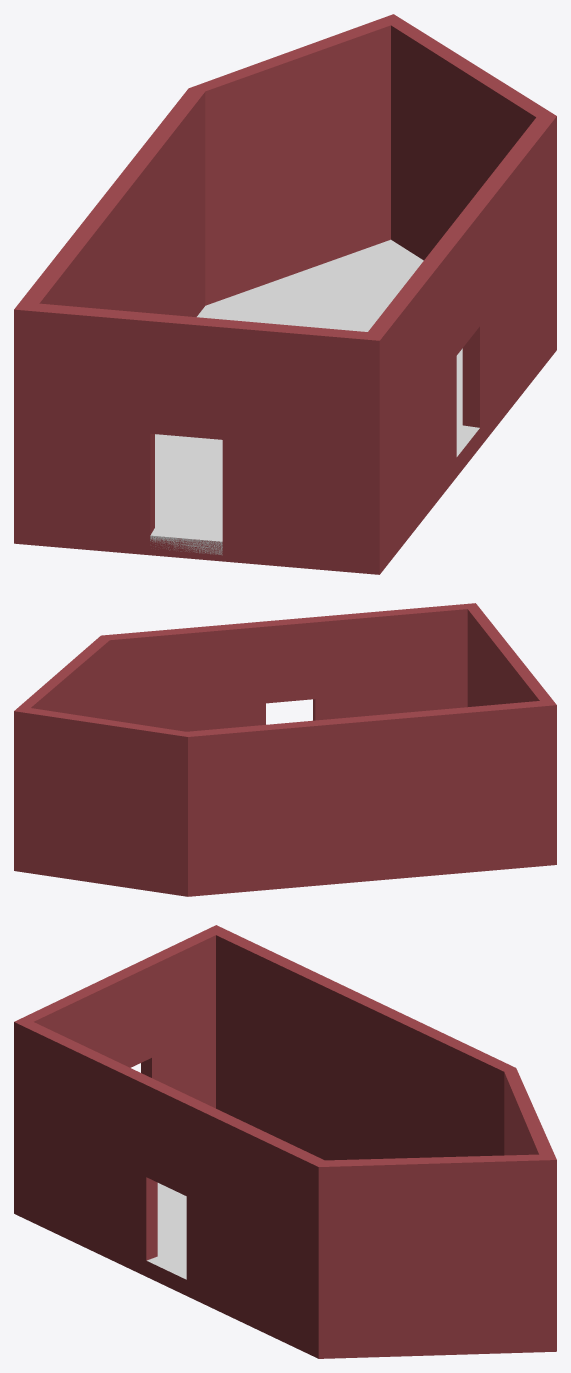
3 renders of one model, top to bottom at view 1: azimuth 30°, elevation 25°; view 2: azimuth 150°, elevation 25°; view 3: azimuth 270°, elevation 25°, orthographic. The views are drawn at different scales.
Visible parts, largest first — view 1: Sala 3, Sala 3.001; view 2: Sala 3; view 3: Sala 3, Sala 3.001.
Boxes of the visible parts, <box> form: Sala 3: <box>14,14,556,574</box>; Sala 3.001: <box>150,239,479,555</box>; Sala 3: <box>14,603,556,896</box>; Sala 3: <box>14,925,556,1358</box>; Sala 3.001: <box>147,1183,186,1279</box>.
Size of the model in its own units: 6555 by 2422 by 6212.
